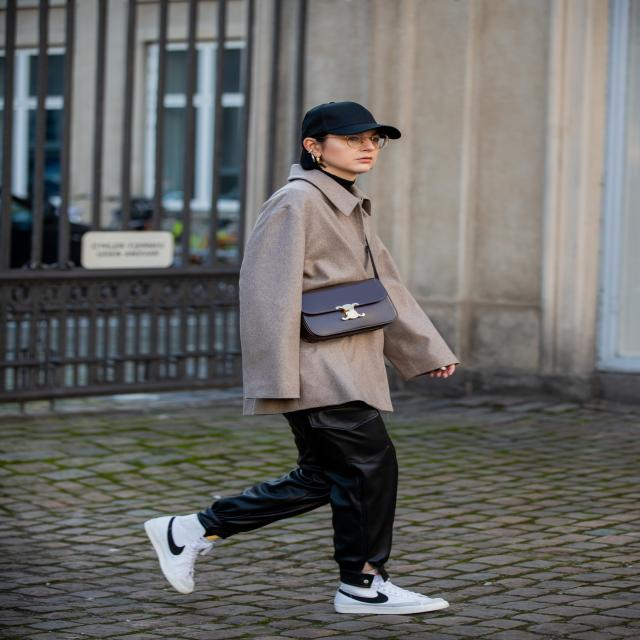nike: (156, 515, 191, 562), (333, 583, 392, 610)
